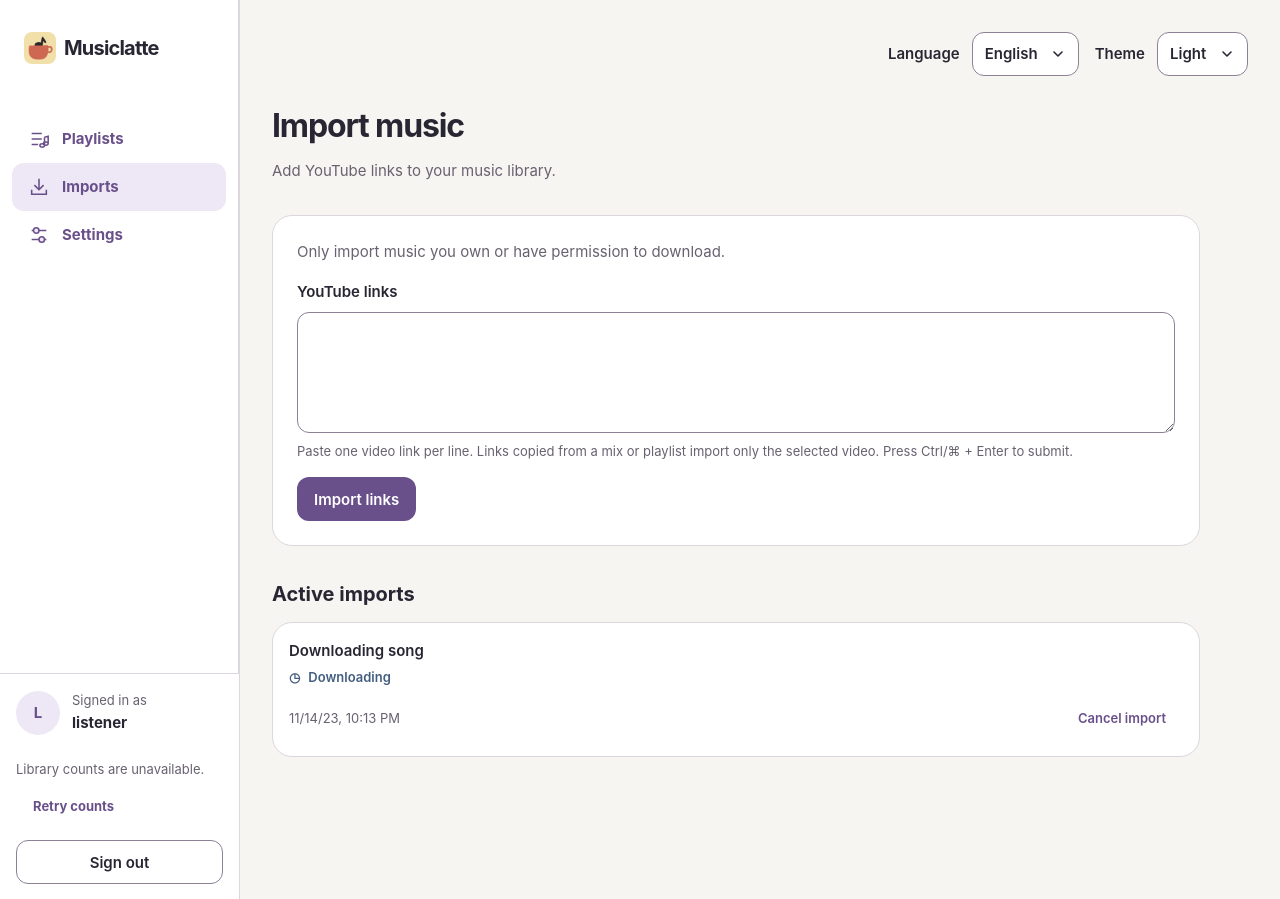
Test: imports route and durable job UI › should keep the form available for another import while a song downloads
Type "https://youtu.be/abcdefghijk" into the text box labelled "YouTube links" at (736, 372), box [297,312,1175,433]
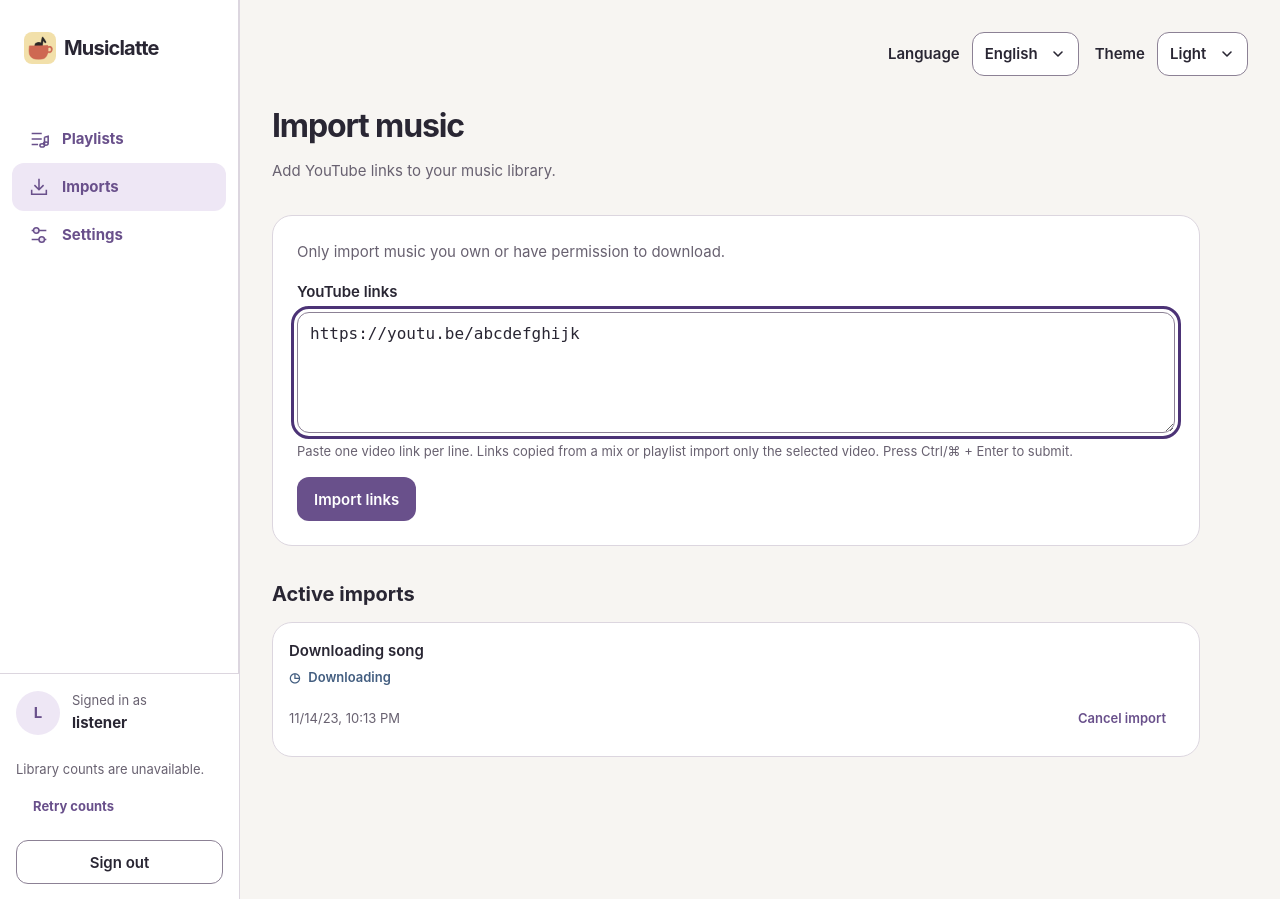
Click the button "Import links" at (357, 499), box [297,477,416,521]
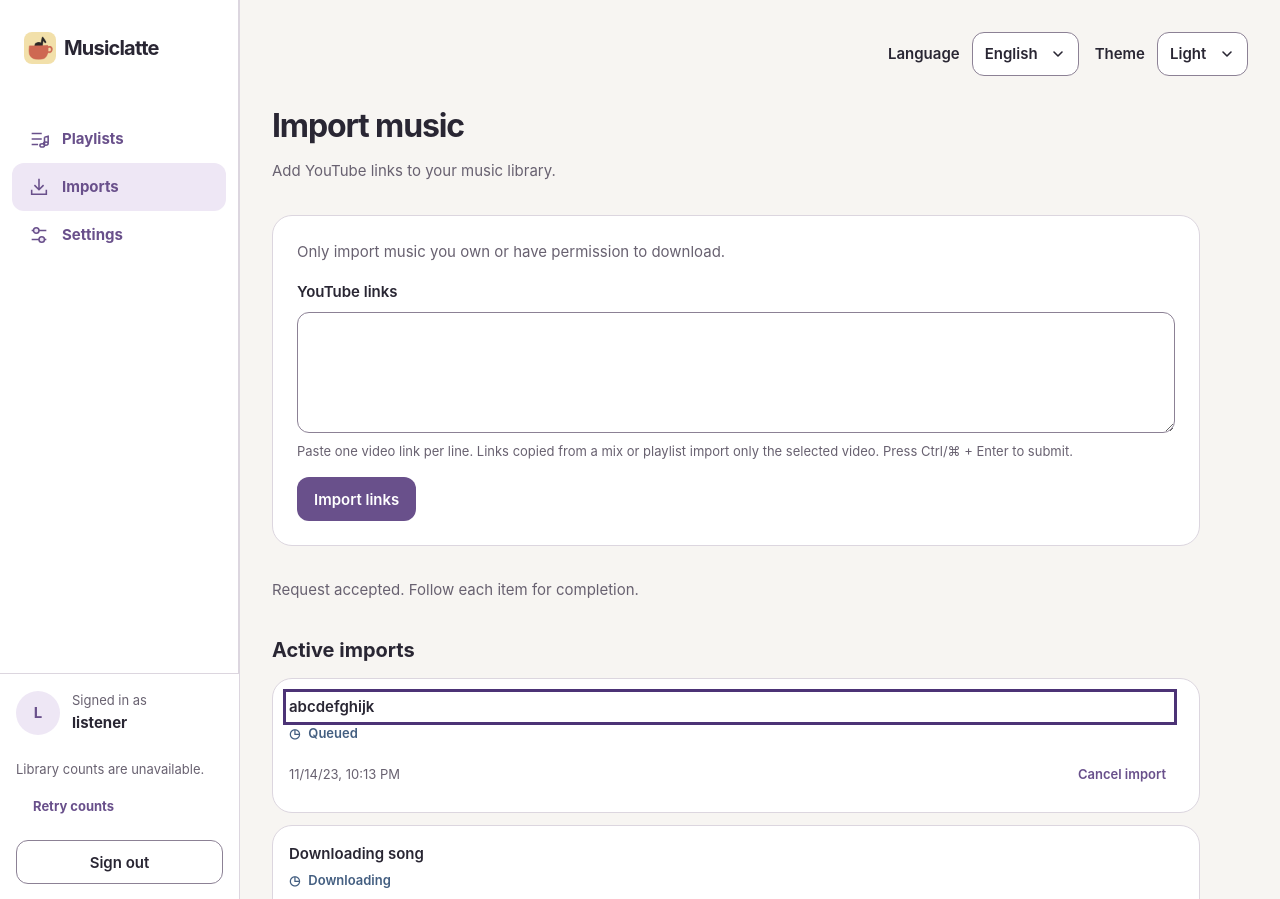
Expected: the heading "Downloading song" is shown, [289,844,424,863]
Now the text "Queued" is shown, box [308,723,358,744]
Now the text box labelled "YouTube links" is empty, box [297,312,1175,433]
